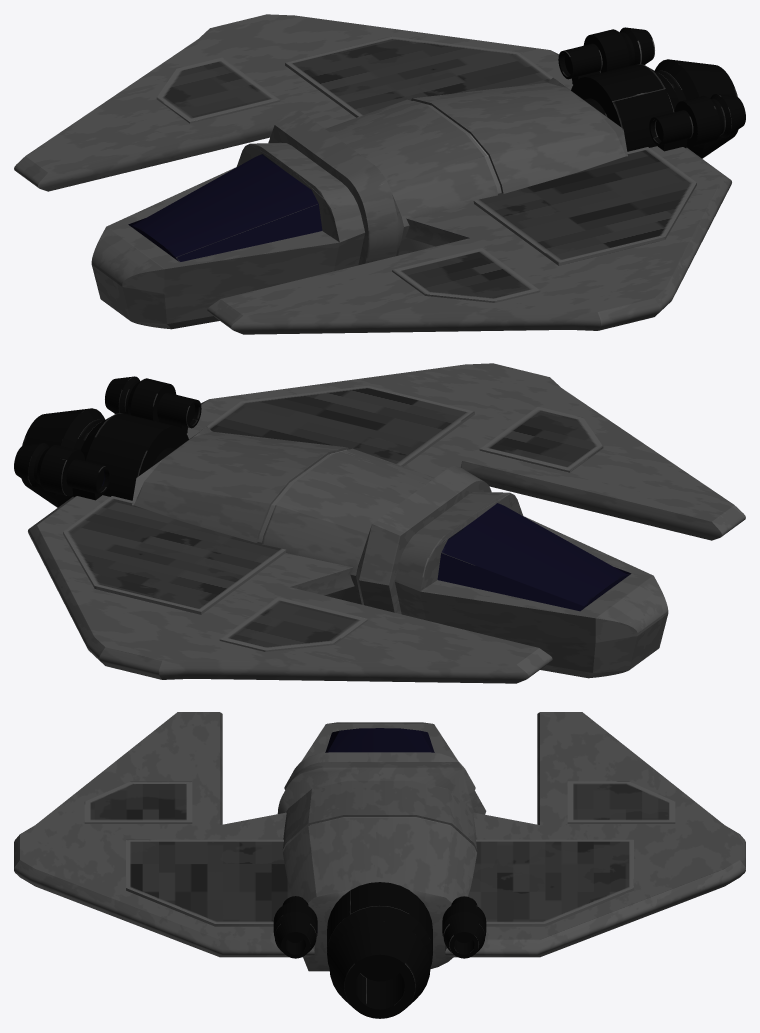
Rendered from spacejet.glb.
3 renders of one model, top to bottom at view 1: azimuth 30°, elevation 25°; view 2: azimuth 150°, elevation 25°; view 3: azimuth 270°, elevation 25°, orthographic. The views are drawn at different scales.
Parts seen in each view (by area): view 1: Space-Jet; view 2: Space-Jet; view 3: Space-Jet.
Part boxes in pixels (x1,y1,x2,y2): Space-Jet: [14, 14, 745, 334]; Space-Jet: [14, 363, 745, 683]; Space-Jet: [14, 712, 745, 1018].
Size of the model in its own units: 3.21 by 0.6977 by 3.57.
6 materials, 6 textured.
